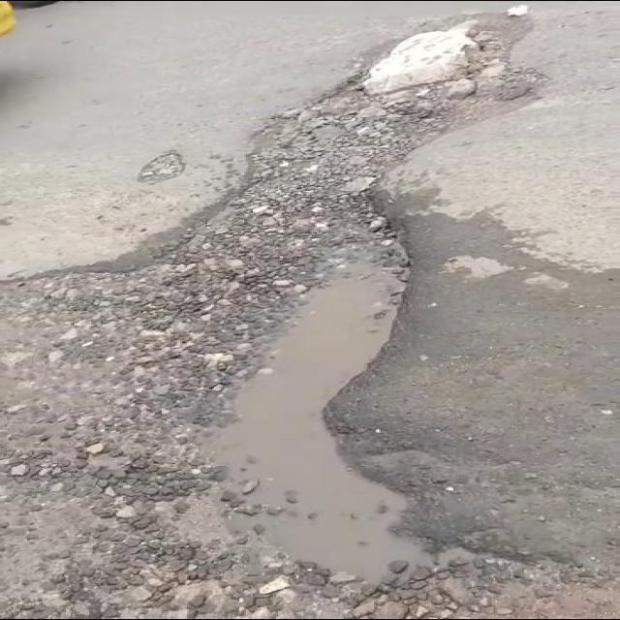lubang: (0, 16, 552, 616), (139, 149, 185, 183)
